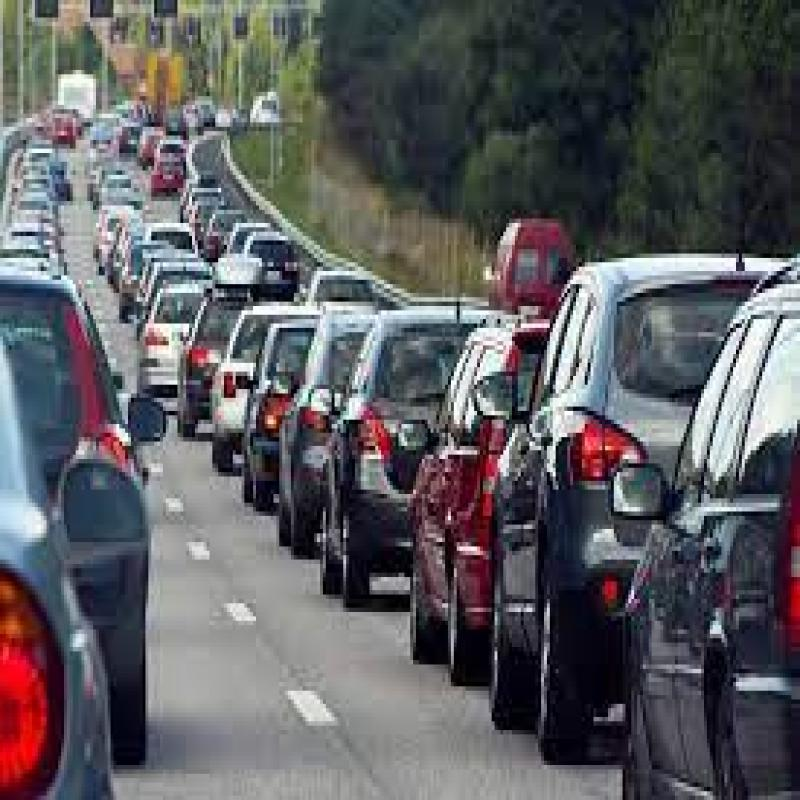car: (505, 240, 776, 687), (627, 259, 800, 800), (0, 273, 157, 799), (338, 308, 512, 622), (417, 327, 555, 647), (288, 301, 392, 555), (244, 312, 336, 516), (134, 266, 218, 392), (217, 301, 289, 436)
